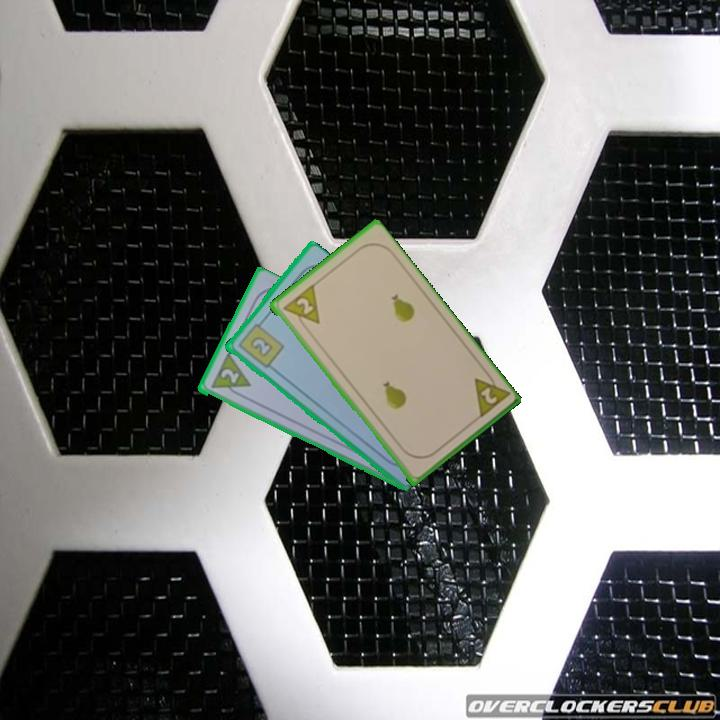2b: (234, 316, 286, 371)
2p: (207, 351, 253, 401), (279, 282, 323, 334), (476, 383, 500, 407)
